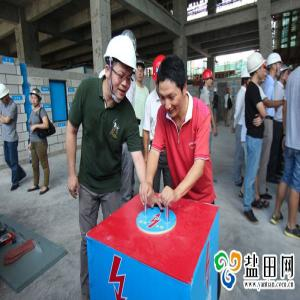blue: (135, 57, 147, 85), (30, 88, 43, 111)
none: (158, 56, 188, 120)
red: (152, 55, 167, 99), (202, 70, 215, 90)
white: (105, 34, 135, 104), (249, 50, 267, 84), (267, 50, 282, 80), (2, 81, 12, 107), (213, 88, 218, 96)
